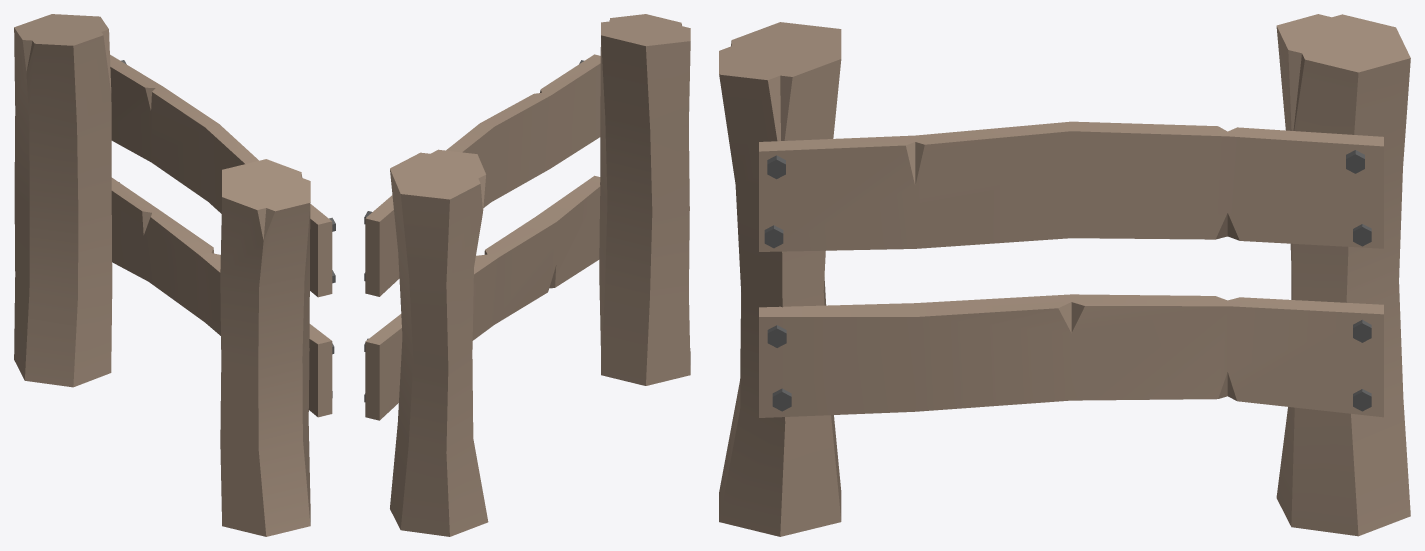
File: Fence.fbx
3 renders of one model, left to right at view 1: azimuth 30°, elevation 25°; view 2: azimuth 150°, elevation 25°; view 3: azimuth 270°, elevation 25°, orthographic. The views are drawn at different scales.
Visible parts, largest first — view 1: Fence; view 2: Fence; view 3: Fence.
Boxes of the visible parts, x1=… form: Fence: x1=14, y1=14, x2=335, y2=536; Fence: x1=364, y1=14, x2=690, y2=536; Fence: x1=719, y1=14, x2=1410, y2=536.
Size of the model in its own units: 5.94 by 17.61 by 23.36.
